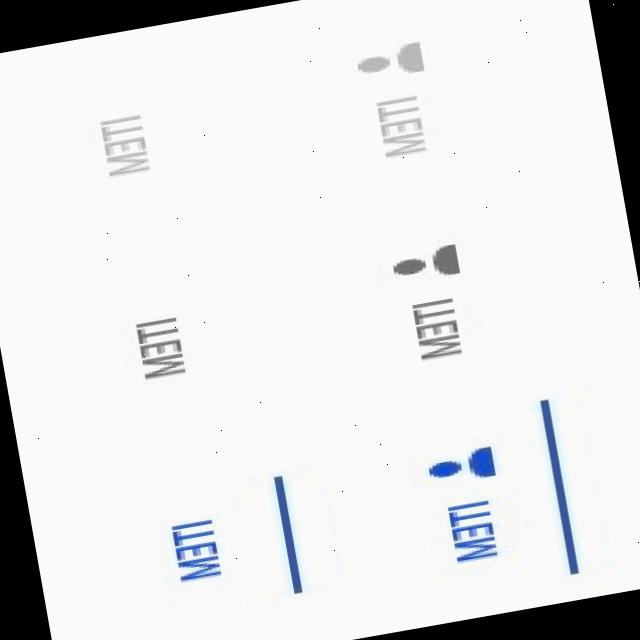VTabs: (302, 0, 592, 612), (55, 43, 323, 640)
